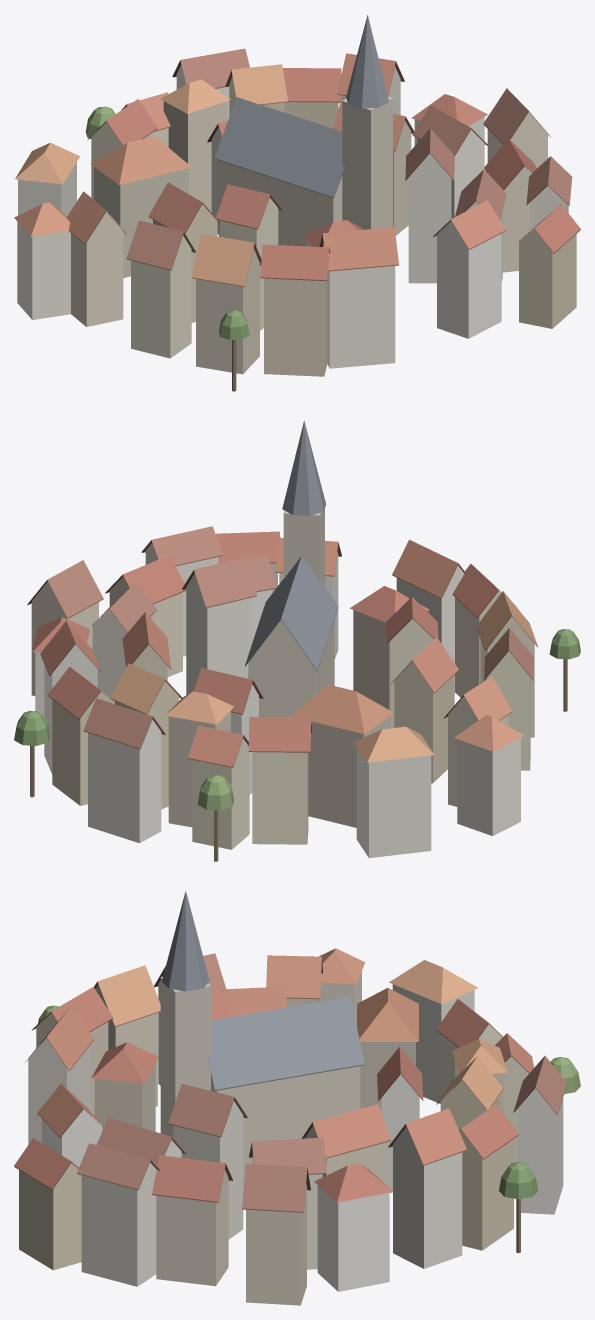
File: city_a.glb
3 views of the same model, one above another, from view 1: azimuth 30°, elevation 25°; view 2: azimuth 150°, elevation 25°; view 3: azimuth 270°, elevation 25° (orthographic). The views are drawn at different scales.
Parts seen in each view (by area): view 1: city_a; view 2: city_a; view 3: city_a.
Boxes of the visible parts, x1,y1,x2,y2 form: city_a: (14,15,580,391); city_a: (14,420,580,861); city_a: (14,890,580,1305).
Size of the model in its own units: 43.43 by 23.8 by 40.31.
